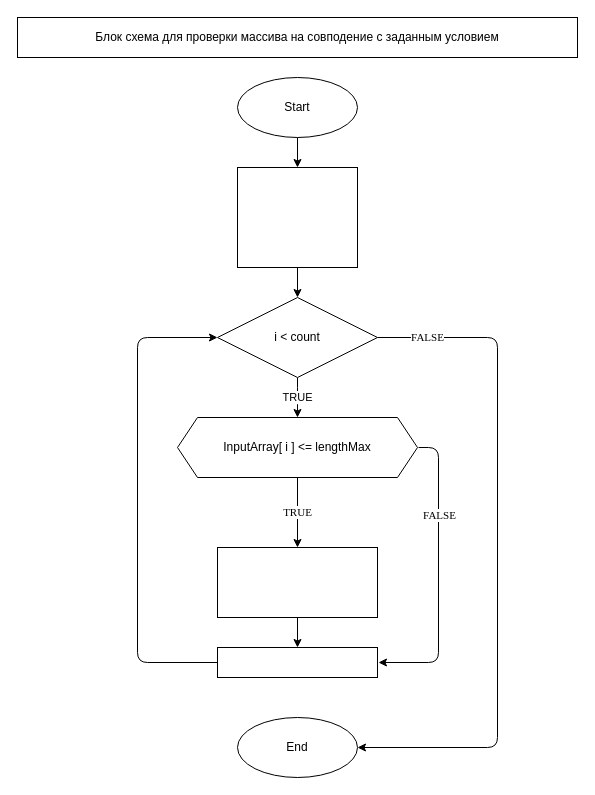
This 595x795 diagram has some shape labels left out. Each missing label, with the centre of its shape:
"i = i + 1" goes at (297,662).
"InputArray[ ] OutputArray [ ] lengthMax = 3 count = 0 i = 0 Index = 0" goes at (297,217).
"OutputArray [index] = inputArray [ i ] index = index + 1" goes at (297,582).
